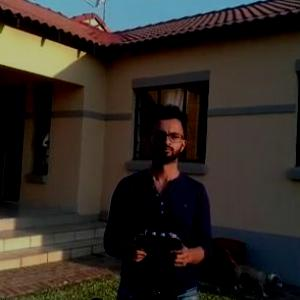follow: (99, 100, 216, 299)
null: (220, 247, 286, 297)
